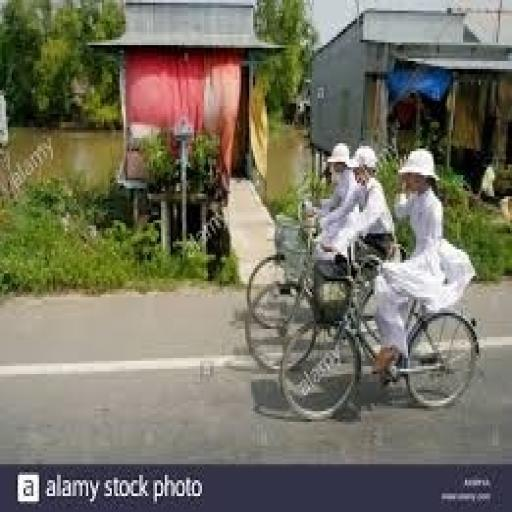cycling: (370, 146, 476, 387)
